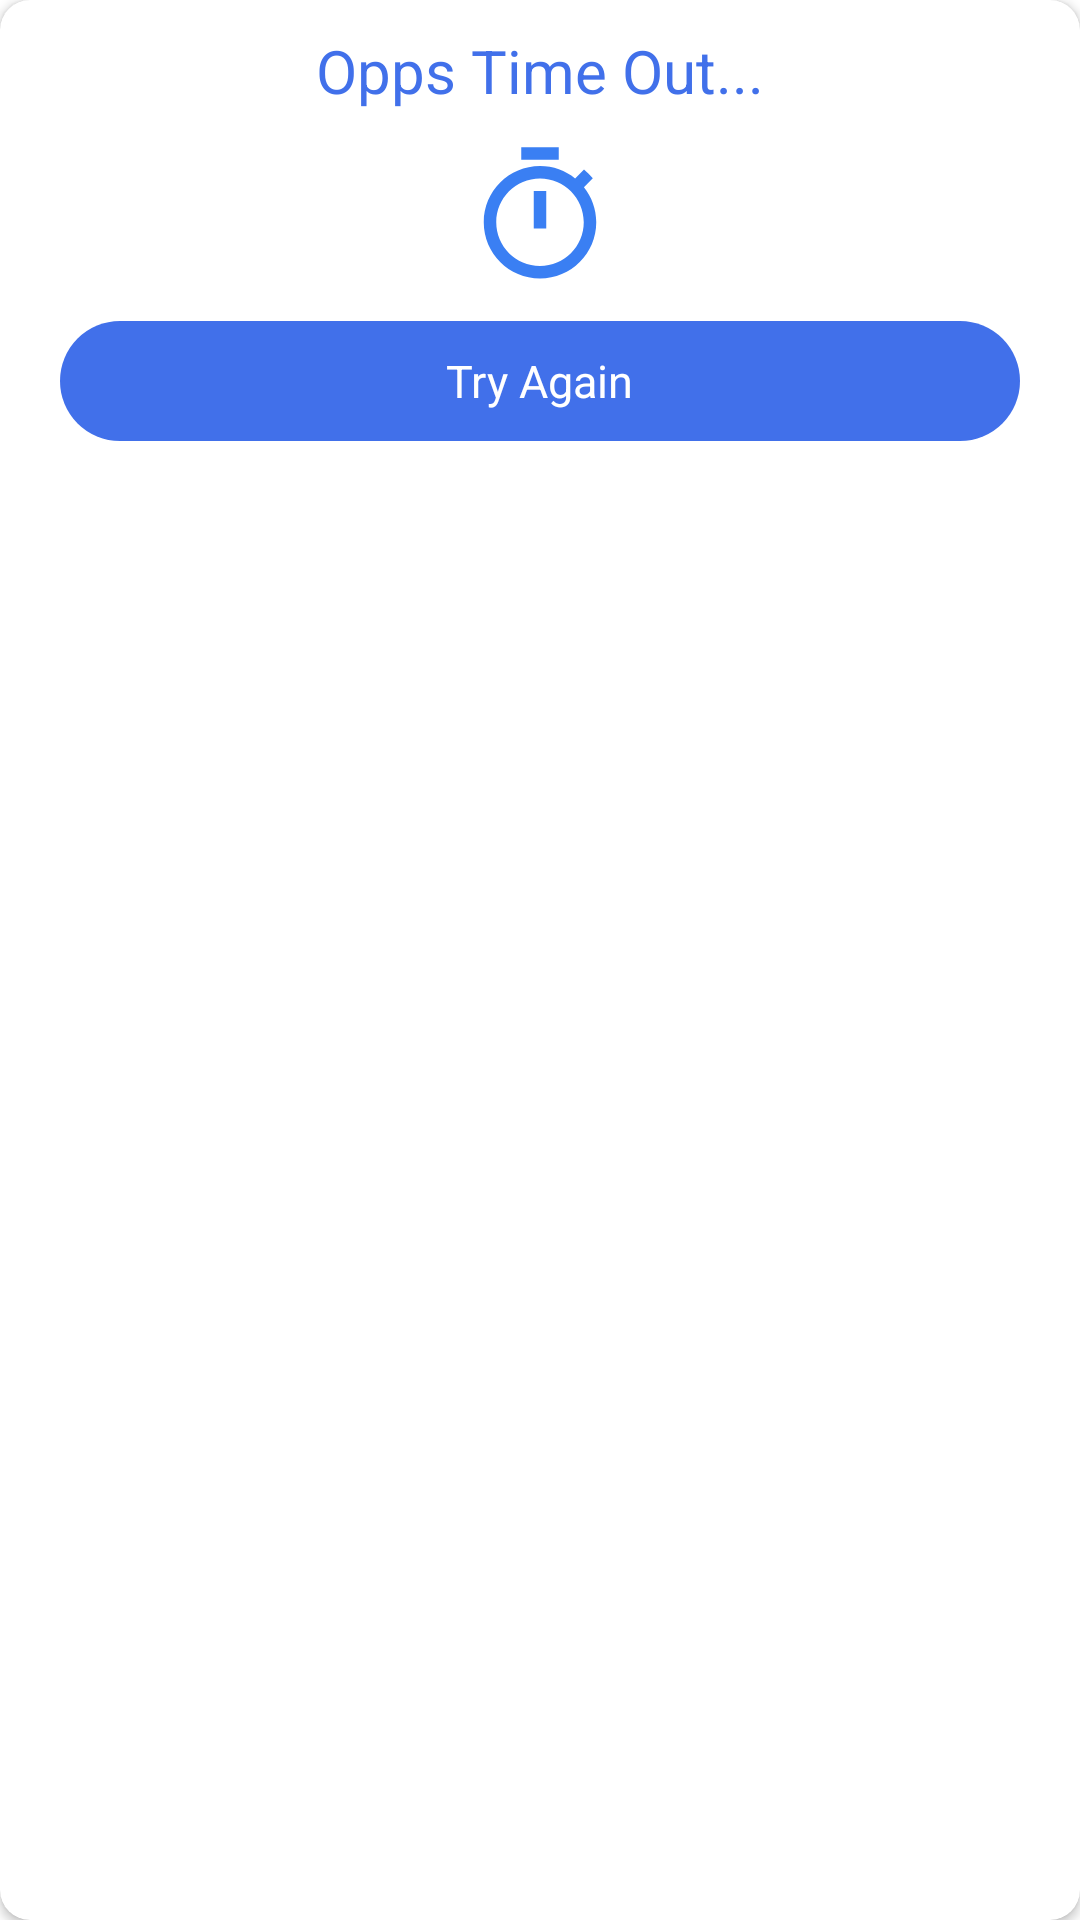

Where icons sit on this 1080*1920 app screen, as (x1, y1, x2, y2):
tim: (483, 147, 597, 279)
